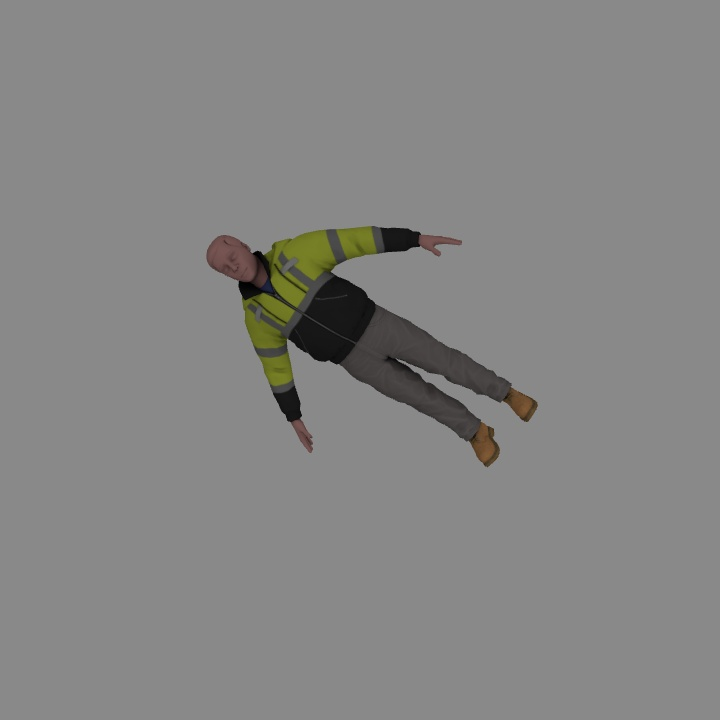victim: (199, 225, 535, 464)
